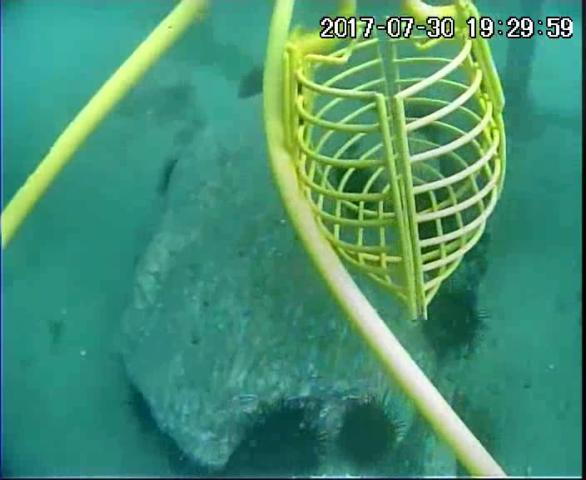echinus: (238, 398, 328, 480), (333, 395, 404, 477), (421, 288, 490, 356), (239, 65, 277, 102)
